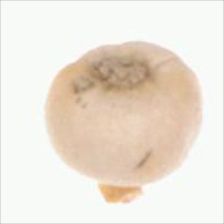L3: (92, 176, 146, 204)
L4: (45, 40, 203, 203)
